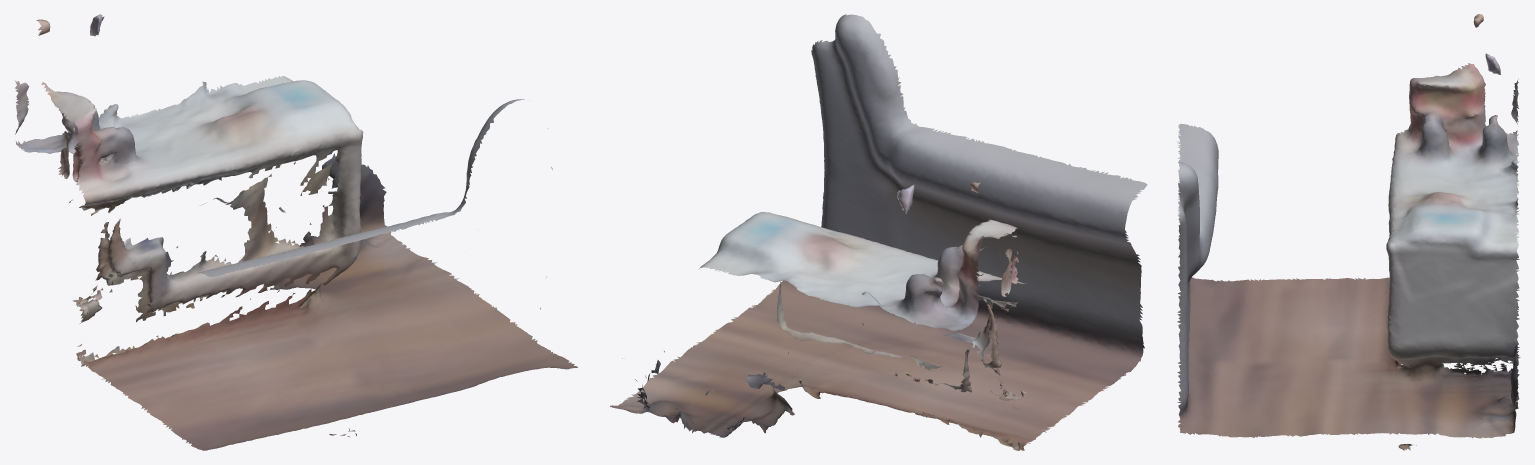
The model's file is apartment-full-91-85c6861a4833.glb.
3 views of the same model, side by side, from view 1: azimuth 30°, elevation 25°; view 2: azimuth 150°, elevation 25°; view 3: azimuth 270°, elevation 25° (orthographic). The views are drawn at different scales.
Size of the model in its own units: 0.897 by 0.781 by 0.835.
